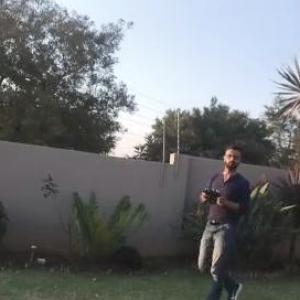follow: (185, 139, 258, 299)
